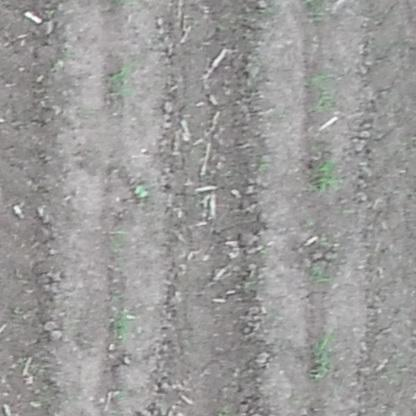corn: (312, 152, 344, 196), (308, 70, 334, 116), (310, 331, 333, 378), (109, 60, 131, 98)
vc: (133, 184, 149, 199)
